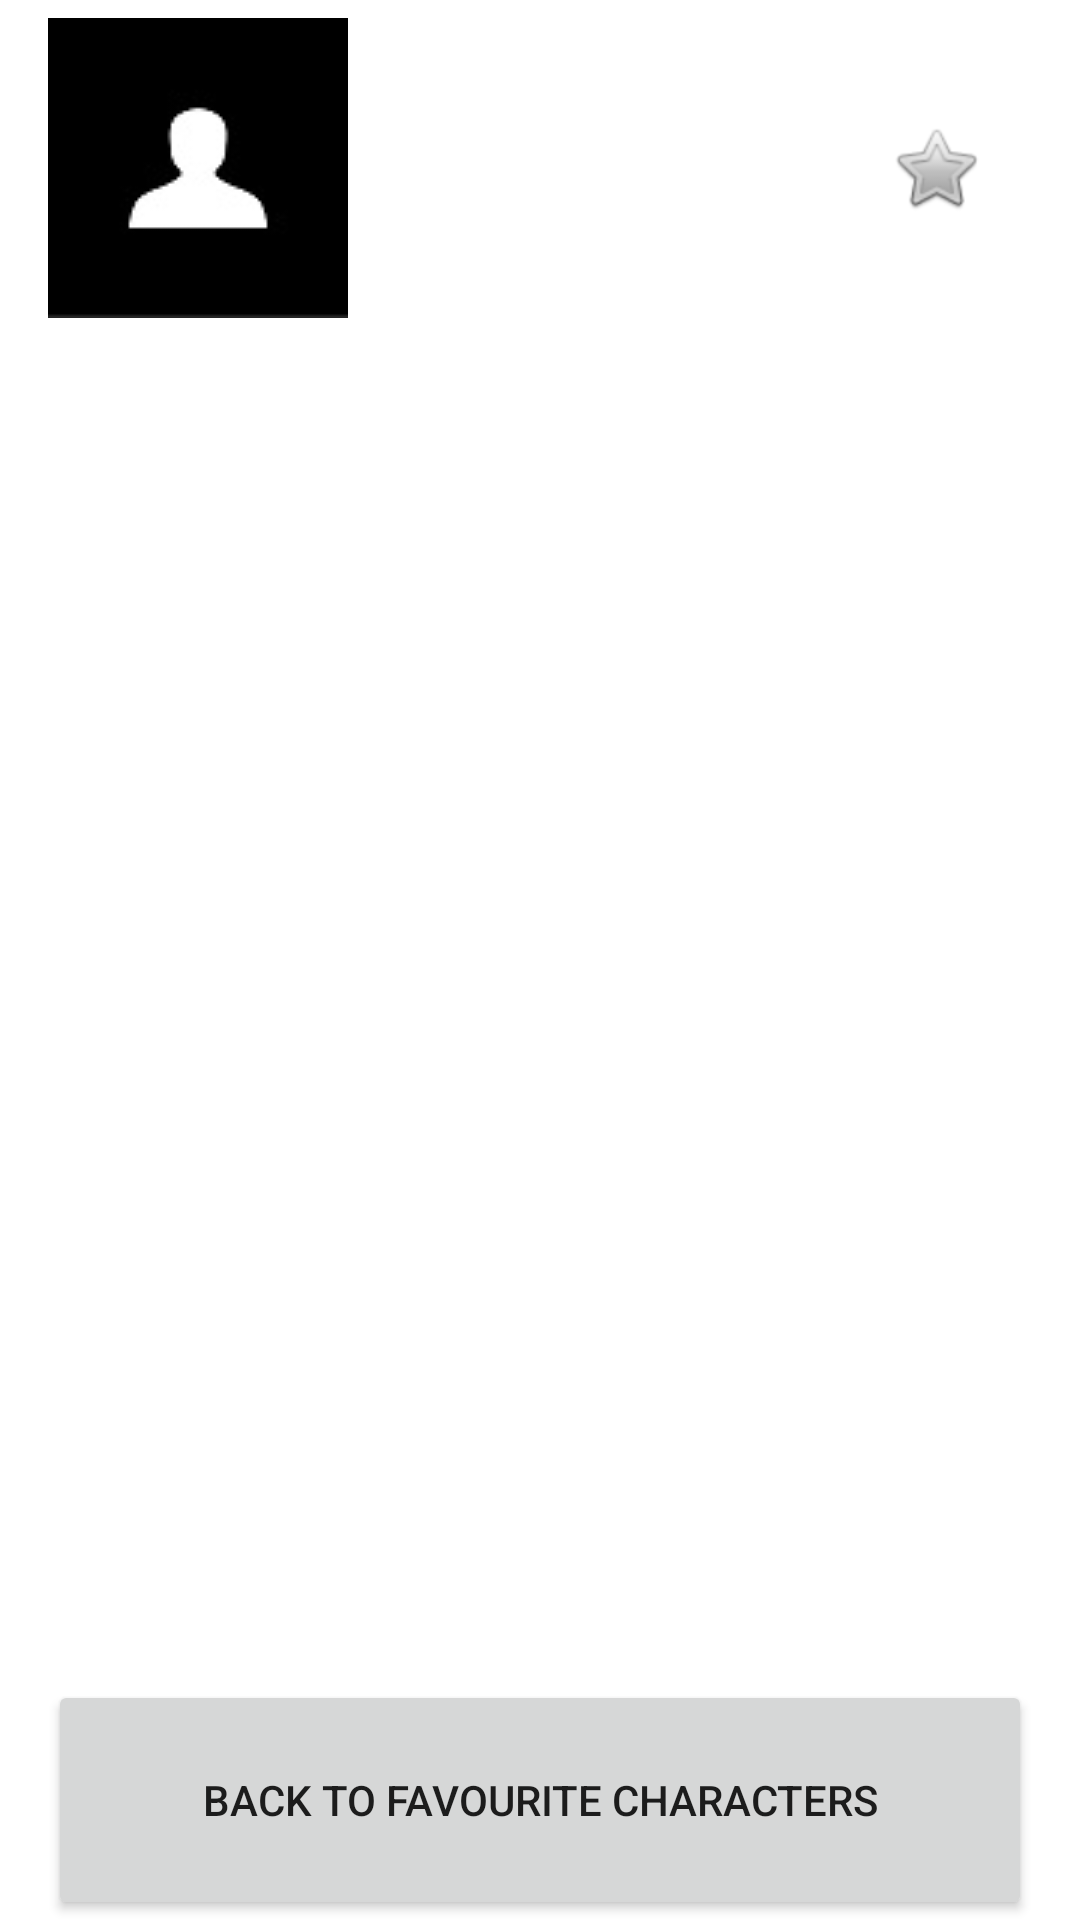

Locate icon controls on the screen. Image size 1080 x 1920, boxes as [x1, y1, x2, y2].
character: [48, 18, 348, 318]
star off: [897, 130, 977, 208]
